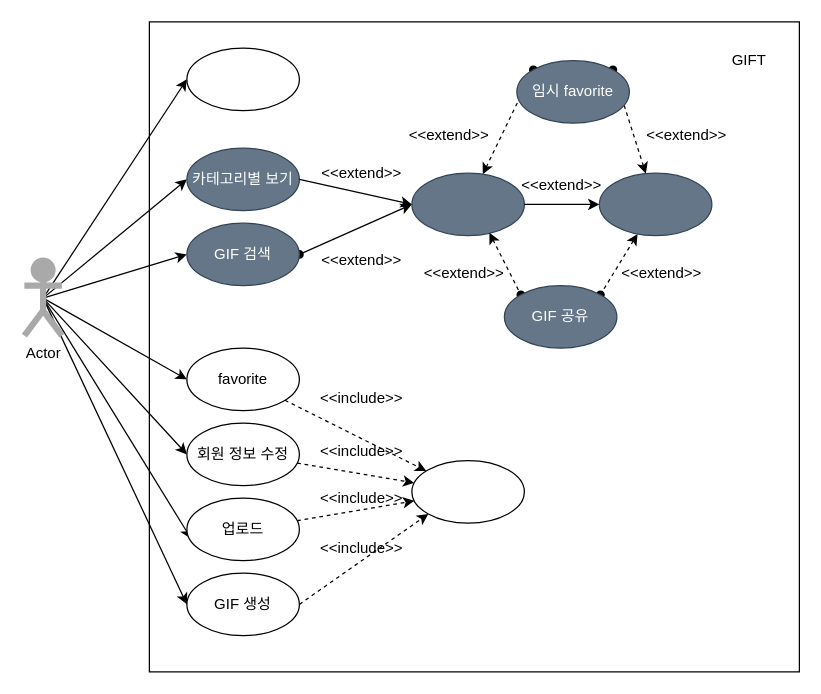
The diagram is 821 pixels wide and 694 high, and some of its shapes have lost their labels. Here are the shapes that lost their labels. From the top down, the box of each, then its label:
(186, 47, 299, 111): 회원가입
(411, 172, 524, 236): GIF 목록 조회
(598, 172, 712, 236): GIF 상세 조회
(411, 459, 524, 523): 로그인
